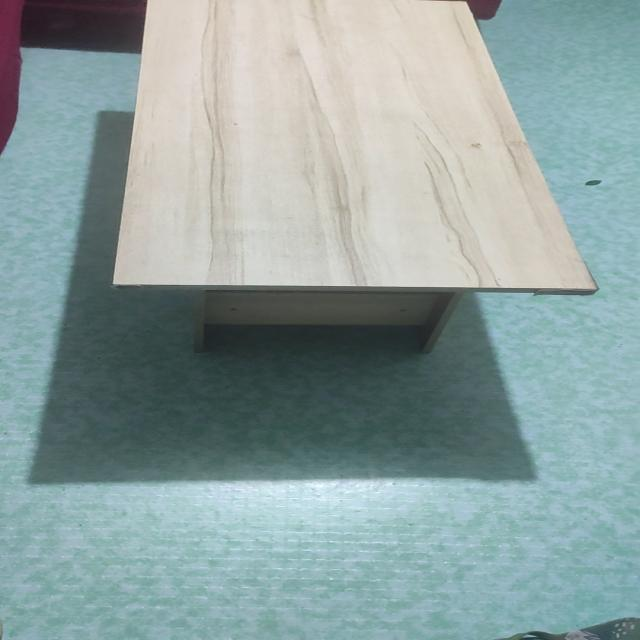table: (111, 0, 597, 366)
